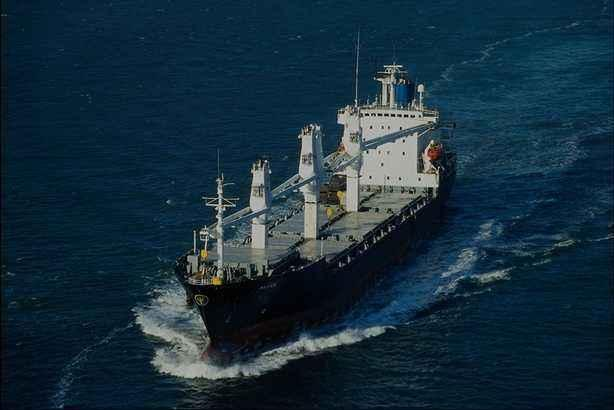Cargoship: (168, 42, 463, 354)
